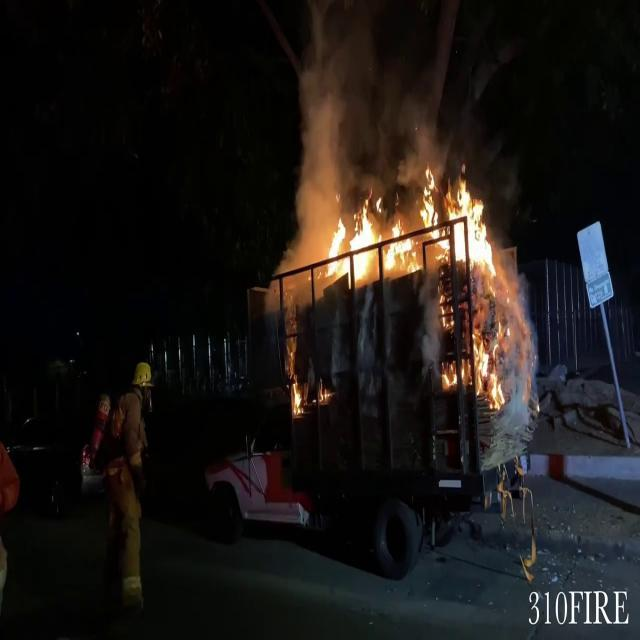Fire: (431, 164, 517, 408), (318, 198, 416, 288)
Smoke: (285, 0, 430, 214)
